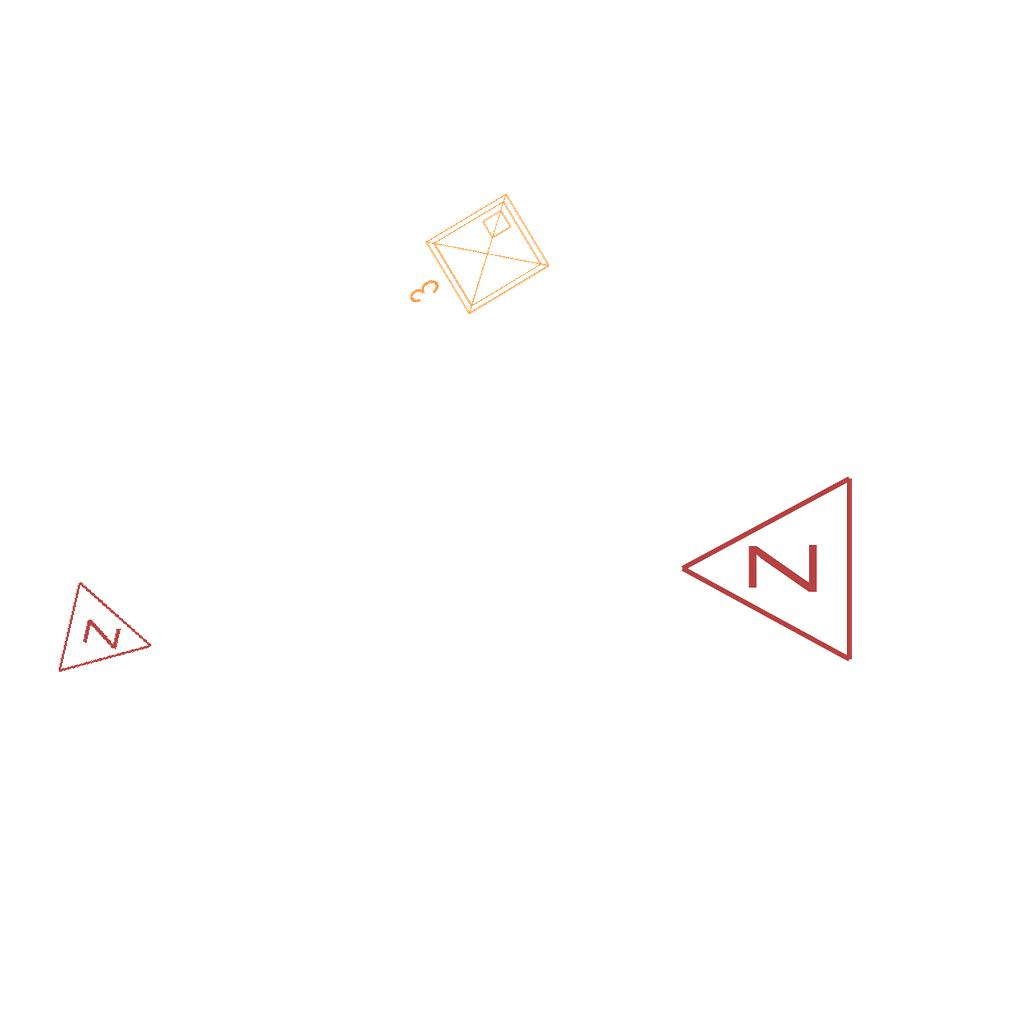Einbaudownlights_LED_Konferenzraeume: (379, 182, 563, 350)
Zimmersignalleuchte: (667, 473, 867, 669), (50, 576, 170, 694)
